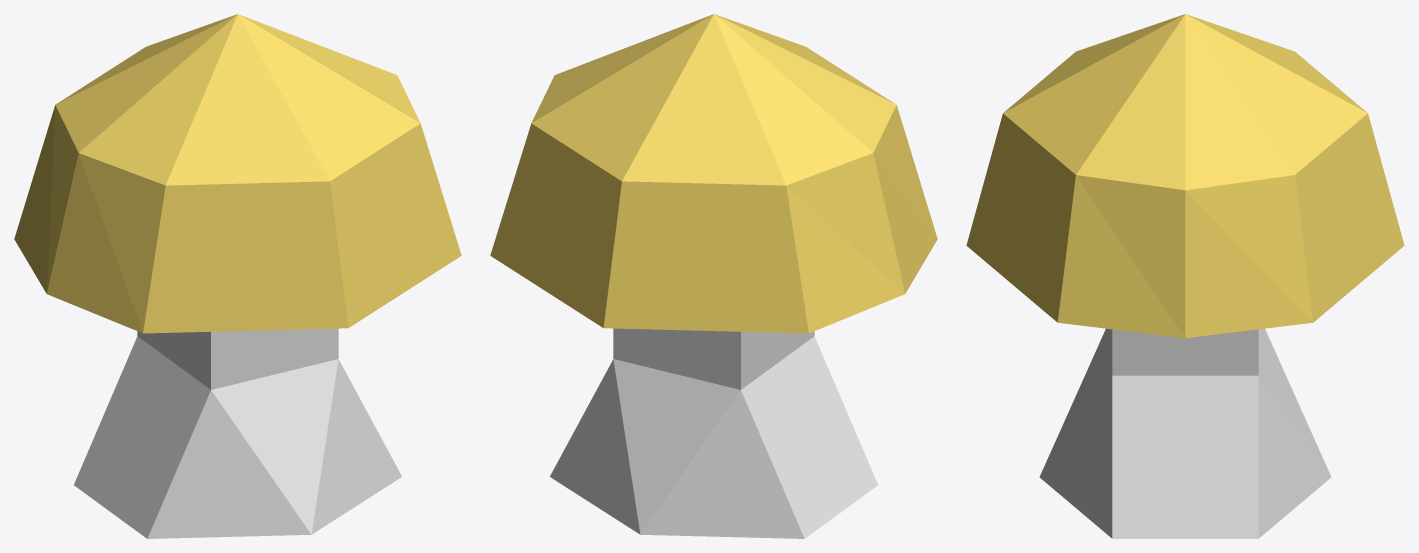
The model's file is obj_mushroom_2_0.obj.
3 renders of one model, left to right at view 1: azimuth 30°, elevation 25°; view 2: azimuth 150°, elevation 25°; view 3: azimuth 270°, elevation 25°, orthographic.
Bounding box in the file's own units: 0.375 × 0.4375 × 0.375.
